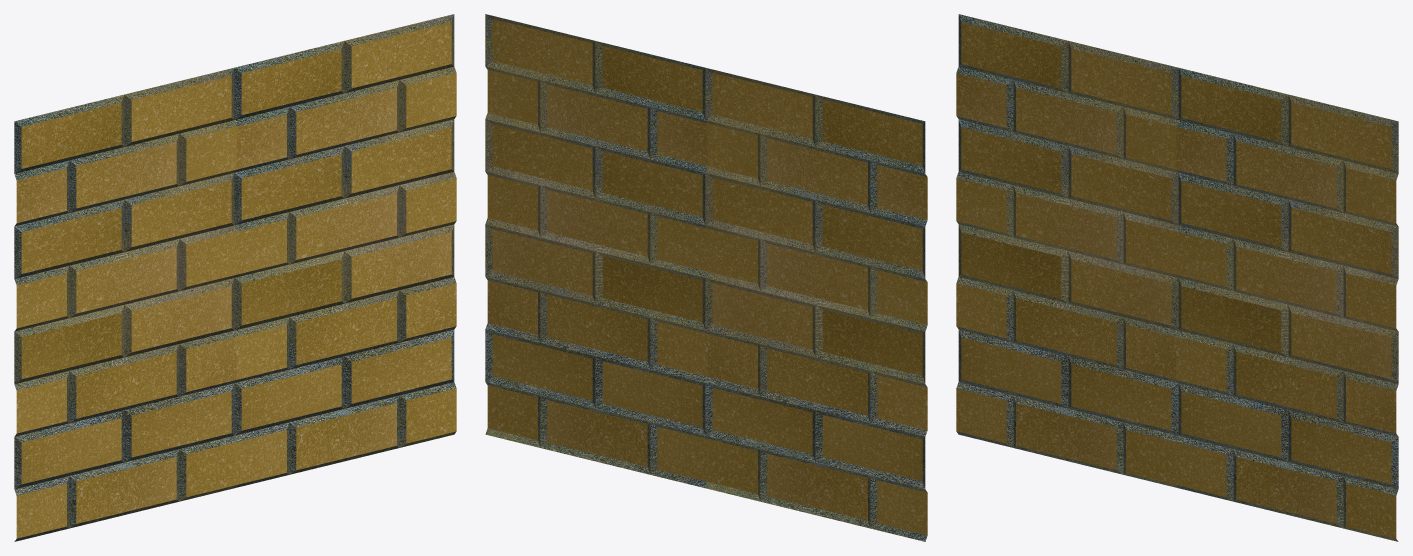
The model's file is Parede2Tile.fbx.
3 renders of one model, left to right at view 1: azimuth 30°, elevation 25°; view 2: azimuth 150°, elevation 25°; view 3: azimuth 330°, elevation 25°, orthographic.
Parts seen in each view (by area): view 1: Plano.008; view 2: Plano.008; view 3: Plano.008.
Boxes of the visible parts, box(x1,y1,x2,y2) form: Plano.008: box(14, 14, 456, 541); Plano.008: box(485, 14, 927, 541); Plano.008: box(956, 14, 1398, 541).
Size of the model in its own units: 5850 by 5343 by 50.34.
